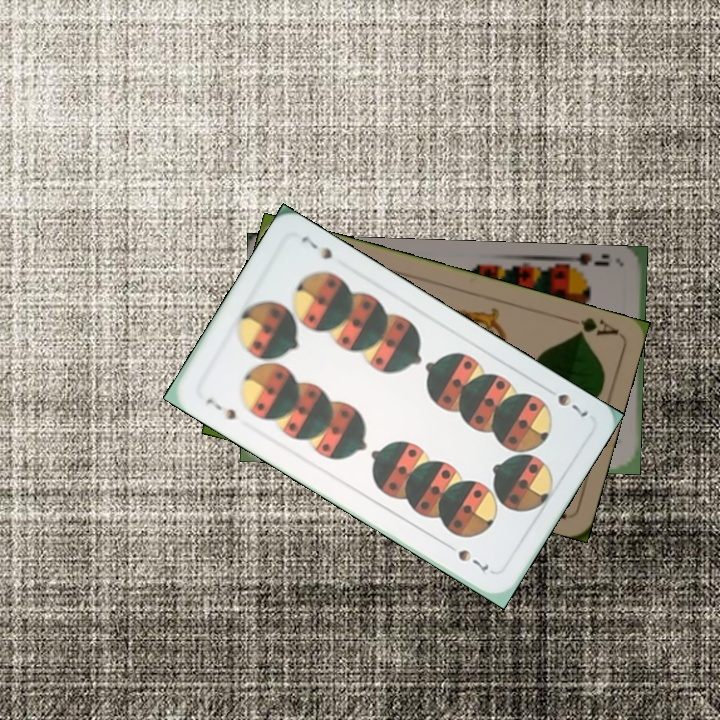GA: (561, 313, 620, 339)
S7: (540, 382, 591, 420), (202, 394, 239, 423)
S9: (561, 251, 613, 278)
